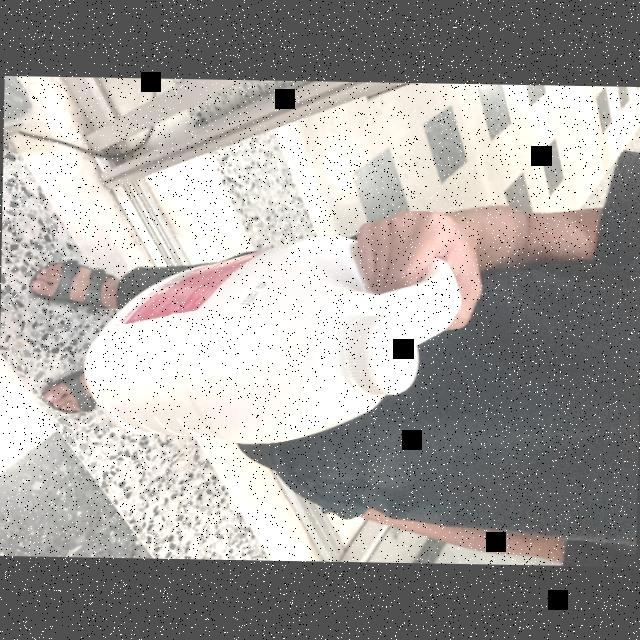chemical_plastic_gallon: (79, 225, 468, 443)
